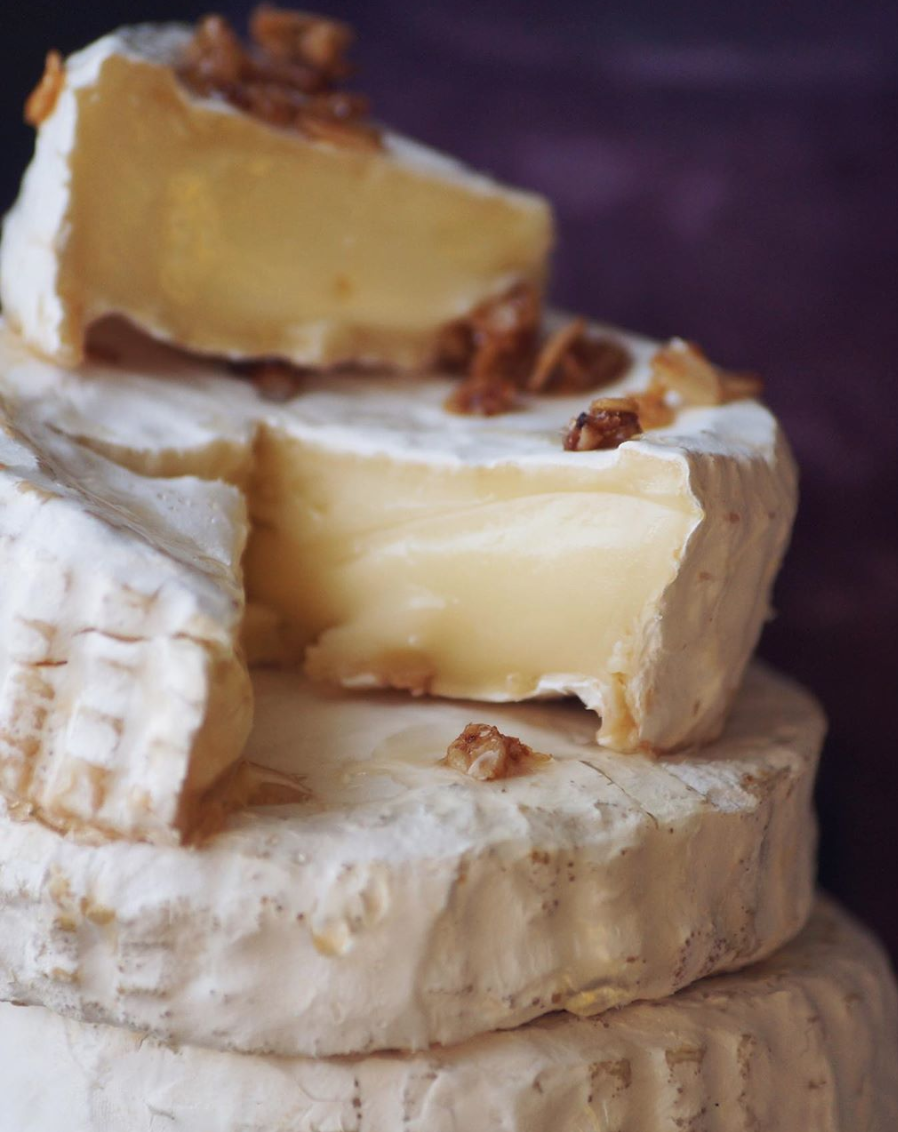camembert: (4, 306, 845, 825), (1, 660, 848, 1050), (1, 20, 559, 366)
